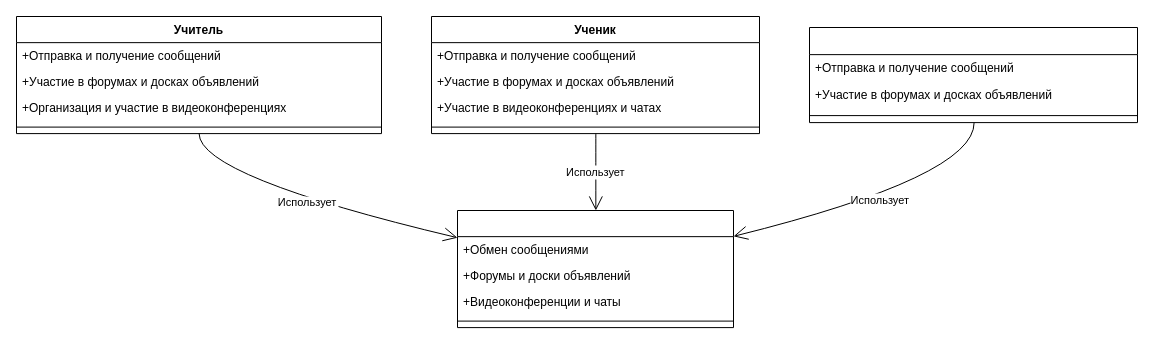
This 1154x344 diagram has some shape labels left out. Each missing label, with the box of its shape:
КоммуникационныеИнструменты: (456, 210, 734, 328)
Родитель: (808, 26, 1138, 123)
